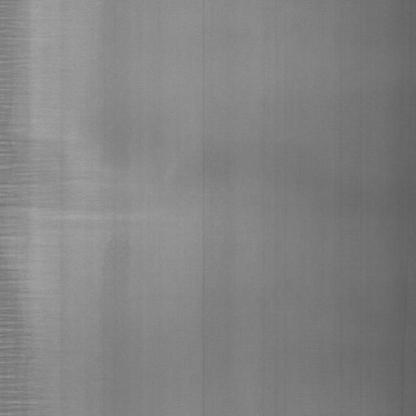waist_folding: (0, 20, 87, 376)
